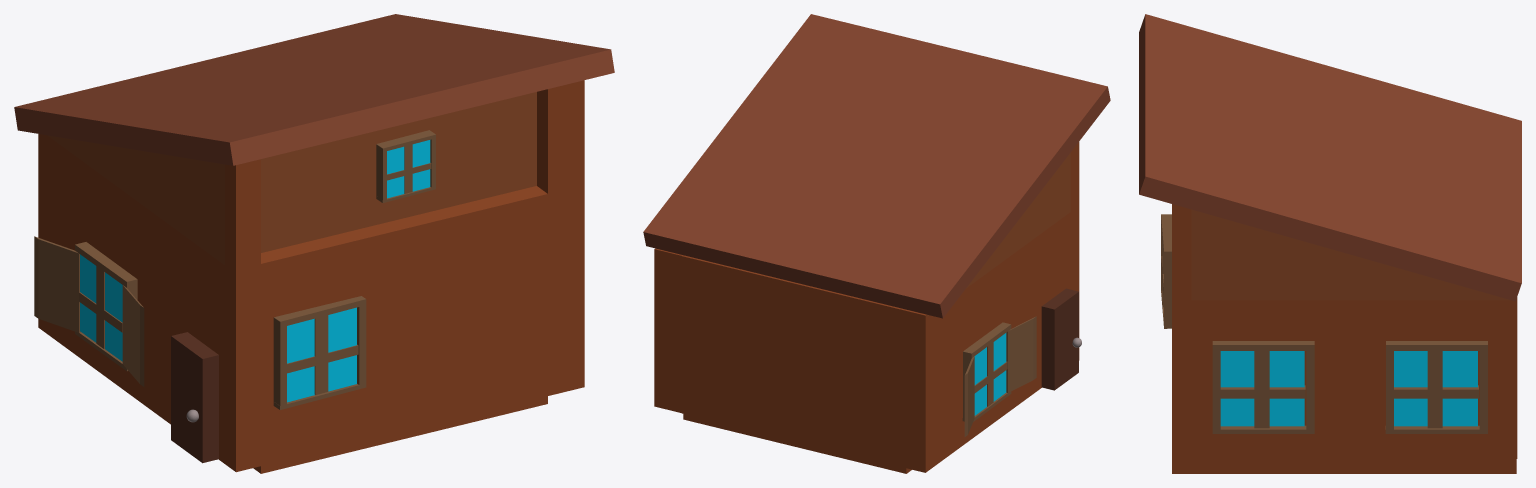
The model's file is casa tipo 1.fbx.
3 renders of one model, left to right at view 1: azimuth 30°, elevation 25°; view 2: azimuth 150°, elevation 25°; view 3: azimuth 270°, elevation 25°, orthographic. The views are drawn at different scales.
Visible parts, largest first — view 1: Cube, Cube.006, Cube.007, Cube.010, Cube.005, Cube.009, Cube.008, Cube.011, Cube.012, Cube.013; view 2: Cube.006, Cube, Cube.010, Cube.005, Cube.007, Cube.011; view 3: Cube.006, Cube, Cube.007, Cube.003, Cube.002, Cube.004, Cube.001, Cube.009.
Boxes of the visible parts, x1=… form: Cube: x1=38, y1=80, x2=584, y2=473; Cube.006: x1=14, y1=14, x2=614, y2=165; Cube.007: x1=47, y1=92, x2=536, y2=264; Cube.010: x1=34, y1=236, x2=144, y2=386; Cube.005: x1=171, y1=332, x2=218, y2=463; Cube.009: x1=273, y1=296, x2=366, y2=409; Cube.008: x1=287, y1=307, x2=356, y2=402; Cube.011: x1=80, y1=254, x2=122, y2=361; Cube.012: x1=376, y1=130, x2=435, y2=202; Cube.013: x1=387, y1=140, x2=430, y2=198; Cube.006: x1=643, y1=14, x2=1110, y2=318; Cube: x1=654, y1=142, x2=1079, y2=473; Cube.010: x1=962, y1=316, x2=1036, y2=436; Cube.005: x1=1041, y1=288, x2=1078, y2=390; Cube.007: x1=927, y1=153, x2=1070, y2=316; Cube.011: x1=974, y1=333, x2=1006, y2=415; Cube.006: x1=1139, y1=14, x2=1521, y2=301; Cube: x1=1172, y1=204, x2=1517, y2=473; Cube.007: x1=1191, y1=209, x2=1510, y2=300; Cube.003: x1=1212, y1=341, x2=1314, y2=433; Cube.002: x1=1385, y1=341, x2=1487, y2=433; Cube.004: x1=1220, y1=351, x2=1304, y2=426; Cube.001: x1=1394, y1=351, x2=1477, y2=426; Cube.009: x1=1161, y1=214, x2=1171, y2=328.
Size of the model in its own units: 1107 by 967 by 1085.
